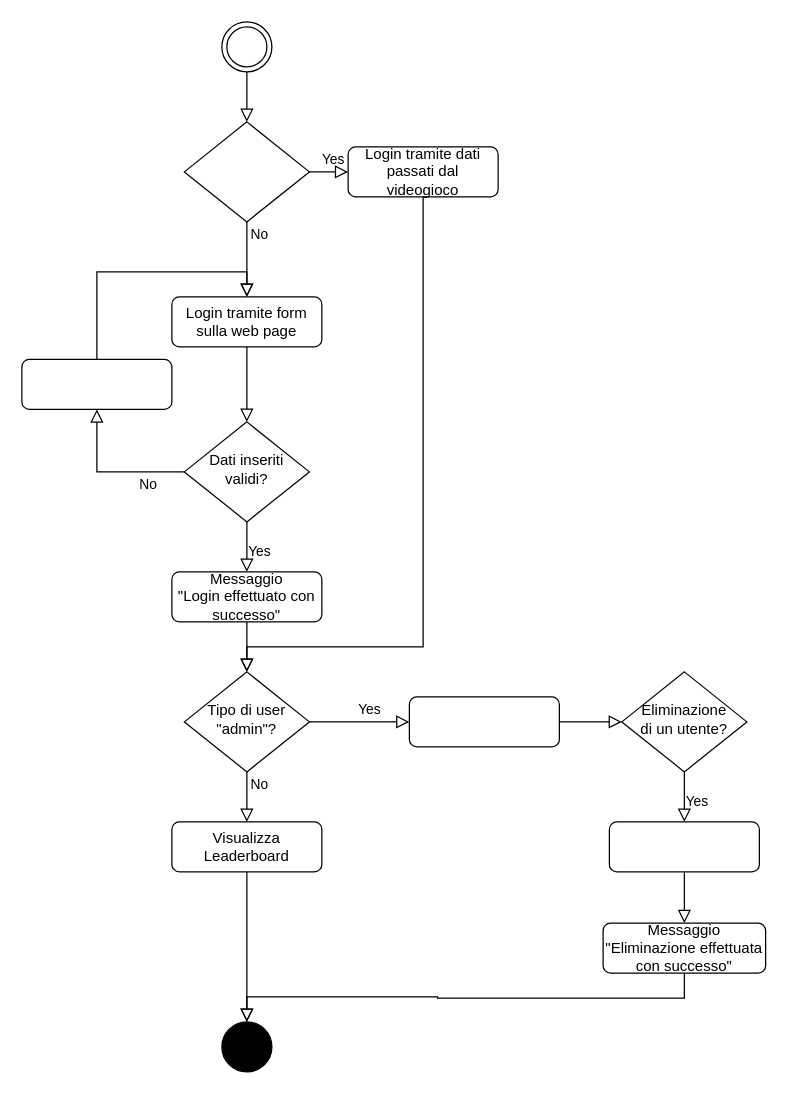
The diagram is 788 pixels wide and 1094 high, and some of its shapes have lost their labels. The shapes that lost their labels are listed below. From the top down, each one's centre as x and y in pixels, then its label:
the point at 246,171: Web page raggiunta dal videogioco?
the point at 96,383: Messaggio di errore
the point at 483,721: Possibilità di vedere la pagina con tutti gli utenti
the point at 683,846: Rimuovi utente dal DB
